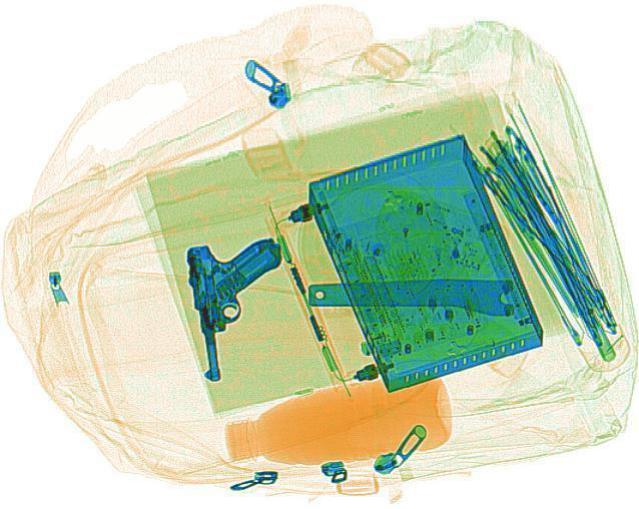Gun: (179, 235, 296, 380)
